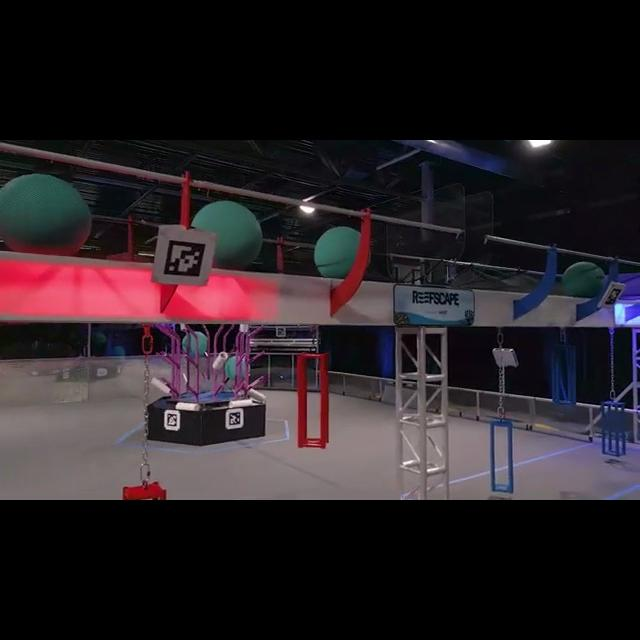ALGAE: (1, 175, 91, 259), (190, 201, 262, 271), (314, 225, 370, 281), (562, 261, 606, 299)
